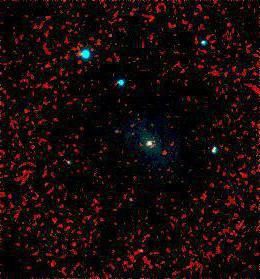star: (98, 117, 128, 147)
